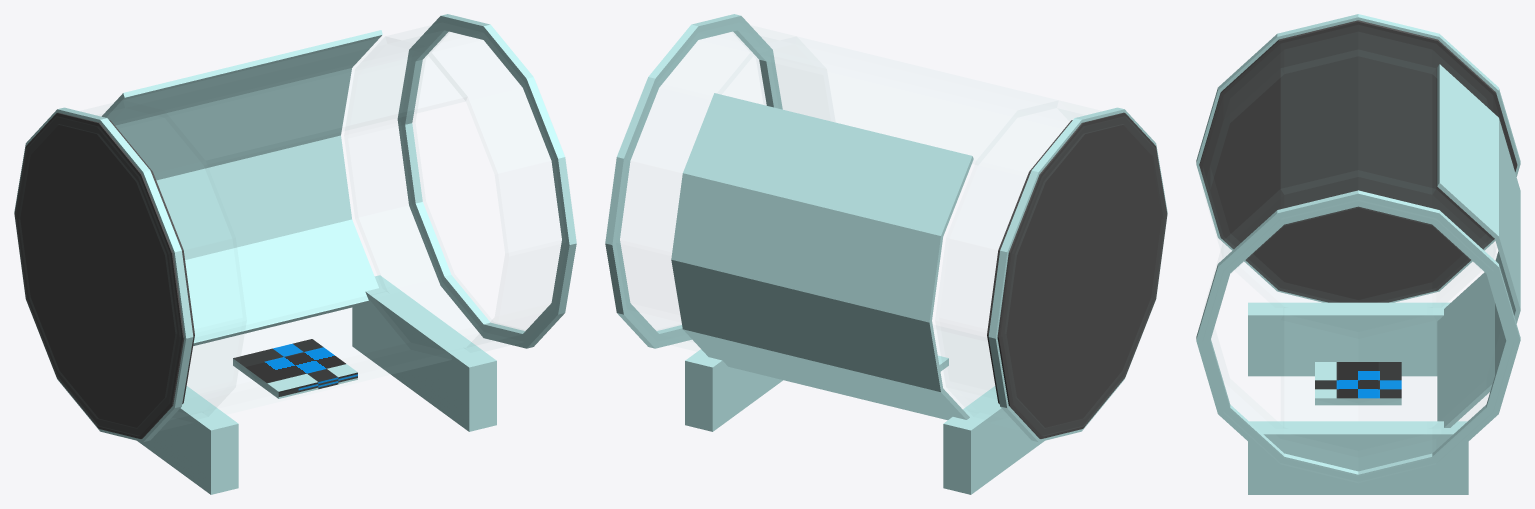
File: tube_terminus_dispenser.glb
The picture shows the model from 3 angles, left to right: view 1: azimuth 30°, elevation 25°; view 2: azimuth 150°, elevation 25°; view 3: azimuth 270°, elevation 25°; orthographic projection. The views are drawn at different scales.
Visible parts, largest first — view 1: Boarding_Door_back, Terminal_End_Cap, Station_Supports, End_Rim_0, Pod_Materializer, End_Rim_-0; view 2: Boarding_Door_back, Terminal_End_Cap, Station_Supports, End_Rim_0, End_Rim_-0; view 3: Terminal_End_Cap, Station_Supports, Boarding_Door_back, End_Rim_0, Pod_Materializer, End_Rim_-0.
Part boxes in pixels (left/top/right/bottom): Boarding_Door_back: left=101, top=30, right=382, bottom=345; Terminal_End_Cap: left=14, top=112, right=194, bottom=438; Station_Supports: left=137, top=275, right=496, bottom=494; End_Rim_0: left=397, top=14, right=576, bottom=348; Pod_Materializer: left=233, top=339, right=357, bottom=398; End_Rim_-0: left=14, top=107, right=193, bottom=442; Boarding_Door_back: left=671, top=93, right=973, bottom=420; Terminal_End_Cap: left=987, top=112, right=1167, bottom=438; Station_Supports: left=685, top=349, right=1044, bottom=494; End_Rim_0: left=605, top=14, right=782, bottom=348; End_Rim_-0: left=988, top=107, right=1167, bottom=442; Terminal_End_Cap: left=1199, top=20, right=1517, bottom=302; Station_Supports: left=1248, top=302, right=1468, bottom=494; Boarding_Door_back: left=1437, top=64, right=1520, bottom=427; End_Rim_0: left=1196, top=190, right=1520, bottom=487; Pod_Materializer: left=1315, top=362, right=1401, bottom=405; End_Rim_-0: left=1196, top=14, right=1520, bottom=302.
Size of what is drawn, in the model's own units: 2 by 1.66 by 1.5.
5 materials, 5 textured.
